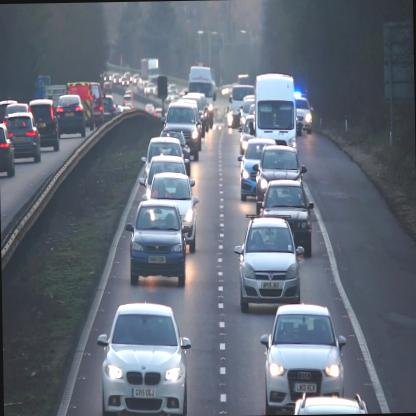car: (96, 301, 191, 415), (258, 304, 346, 414), (234, 216, 306, 314), (126, 200, 188, 287), (255, 179, 314, 258), (142, 172, 198, 254), (252, 145, 308, 212), (237, 138, 279, 202), (160, 98, 201, 160), (138, 156, 196, 192), (5, 112, 40, 164), (29, 99, 60, 153), (140, 137, 190, 170), (56, 93, 85, 136), (296, 96, 312, 134)
truck: (254, 72, 297, 154), (186, 64, 214, 124), (230, 86, 254, 128)
